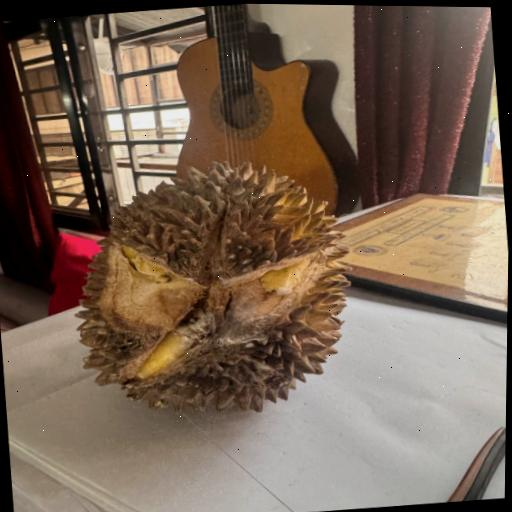rot: (11, 106, 400, 449)
